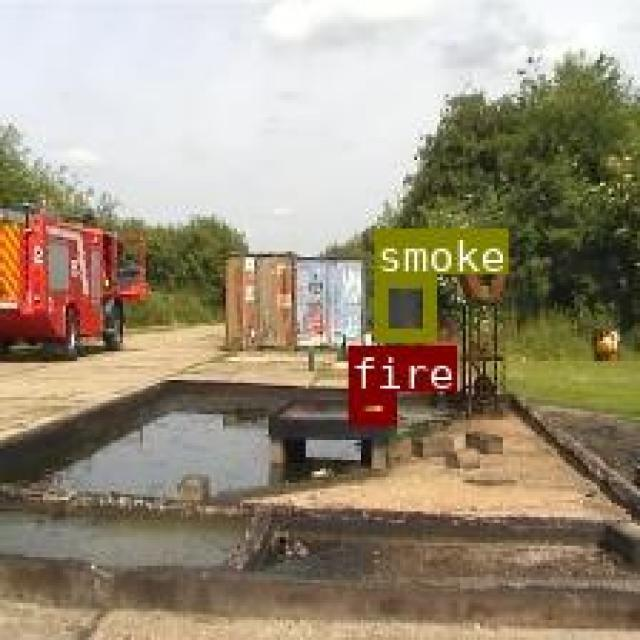fire: (349, 389, 394, 420)
smoke: (372, 272, 433, 340)
